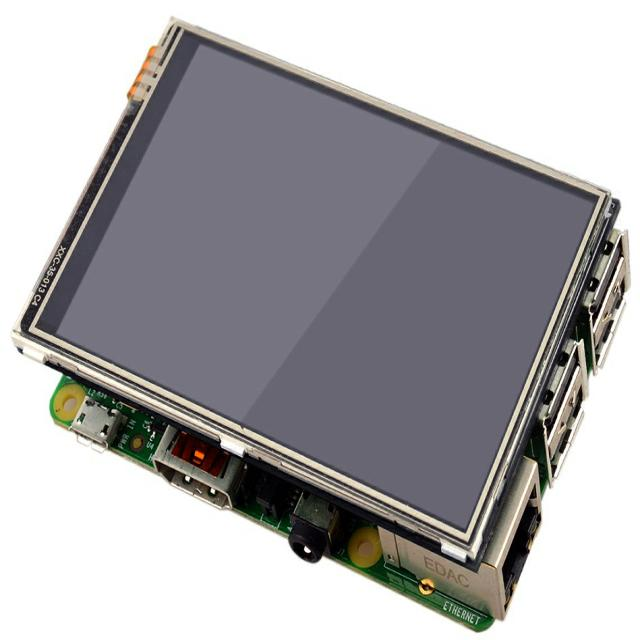Display: (1, 16, 627, 575)
